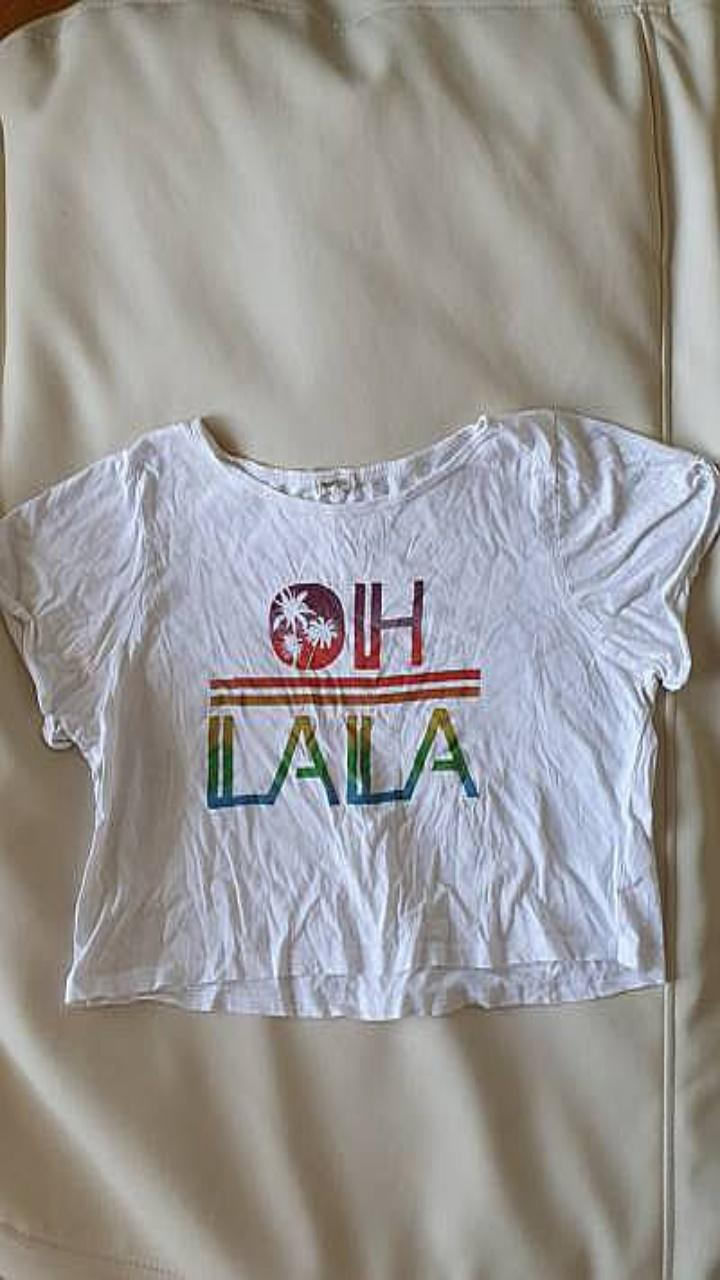T-Shirt: (0, 409, 719, 1019)
